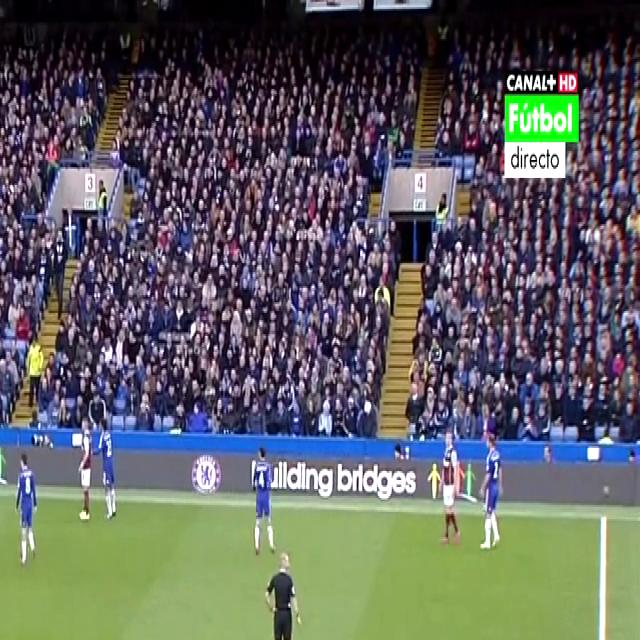referee: (257, 544, 303, 640)
soccer-player: (8, 443, 46, 573), (435, 424, 469, 550), (478, 430, 510, 556), (246, 436, 278, 558), (90, 412, 122, 529), (76, 413, 107, 531)
